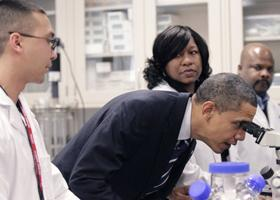person: (51, 74, 258, 199)
